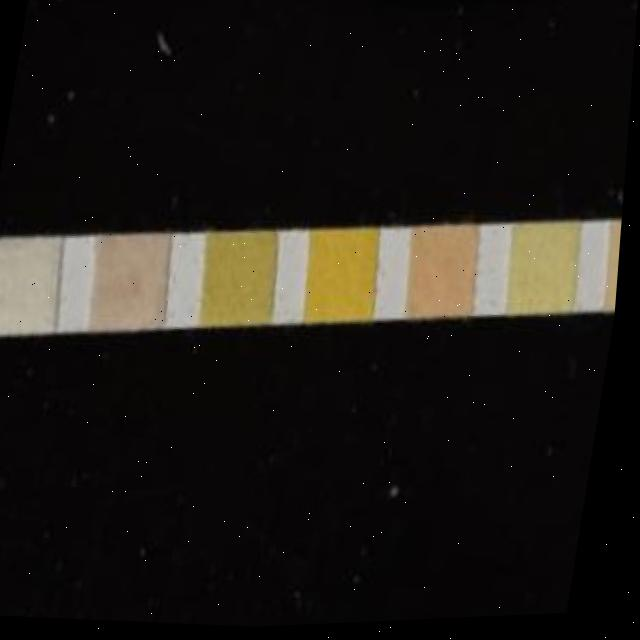Bilirubin: (0, 241, 61, 329)
Blood: (311, 235, 378, 322)
Ketone: (93, 238, 177, 330)
Protein: (512, 229, 580, 314)
SpGravity: (205, 236, 277, 324)
Urobilinogen: (612, 231, 625, 314)
pH: (408, 235, 480, 319)
